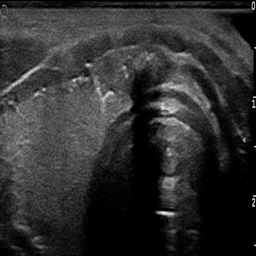mass: (90, 44, 174, 94)
